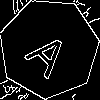A: (24, 23, 79, 80)
